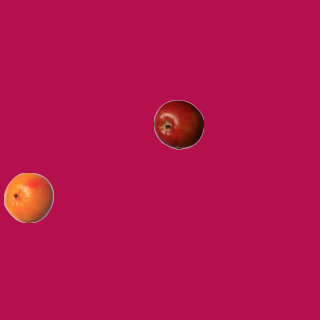Apple Braeburn: (153, 99, 203, 149)
Grapefruit Pink: (3, 172, 53, 222)
